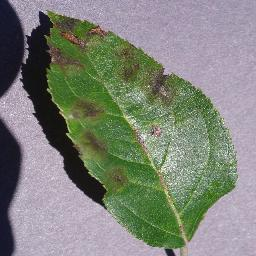apple healthy: (38, 7, 239, 252)
